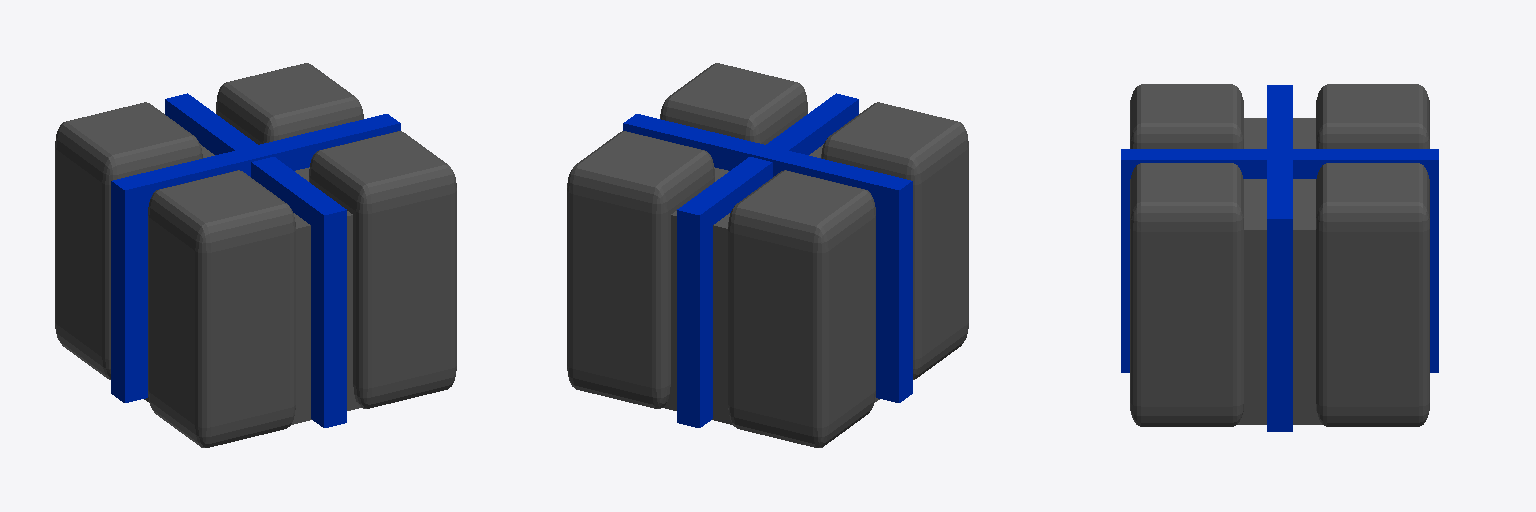
The picture shows the model from 3 angles: view 1: azimuth 30°, elevation 25°; view 2: azimuth 150°, elevation 25°; view 3: azimuth 270°, elevation 25°; orthographic projection.
Visible parts, largest first — view 1: newBox.006, newBox.005, newBox.004, newBox.002, newBox.001, newBox.003, newBox; view 2: newBox.004, newBox.003, newBox.006, newBox.002, newBox.001, newBox.005, newBox; view 3: newBox.003, newBox.005, newBox, newBox.002, newBox.001, newBox.004, newBox.006.
Part boxes in pixels (bbox=[...]): newBox.006: bbox=[148, 170, 295, 447]; newBox.005: bbox=[309, 131, 456, 408]; newBox.004: bbox=[55, 102, 202, 379]; newBox.002: bbox=[111, 114, 400, 402]; newBox.001: bbox=[165, 93, 346, 427]; newBox.003: bbox=[216, 63, 363, 144]; newBox: bbox=[144, 144, 360, 424]; newBox.004: bbox=[728, 170, 875, 447]; newBox.003: bbox=[567, 131, 714, 408]; newBox.006: bbox=[821, 102, 968, 379]; newBox.002: bbox=[623, 114, 912, 402]; newBox.001: bbox=[677, 93, 858, 427]; newBox.005: bbox=[660, 63, 807, 144]; newBox: bbox=[663, 144, 879, 424]; newBox.003: bbox=[1316, 163, 1429, 426]; newBox.005: bbox=[1130, 163, 1243, 426]; newBox: bbox=[1238, 118, 1321, 424]; newBox.002: bbox=[1267, 85, 1292, 431]; newBox.001: bbox=[1121, 149, 1438, 372]; newBox.004: bbox=[1316, 84, 1429, 148]; newBox.006: bbox=[1130, 84, 1243, 148].
Bounding box in the file's own units: 1.2 × 0.9377 × 1.2.